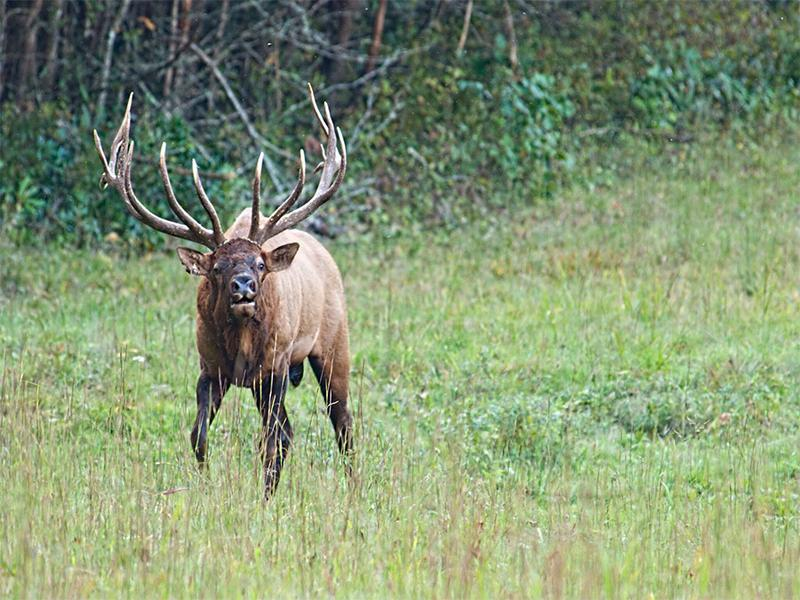elk: (116, 151, 371, 495)
